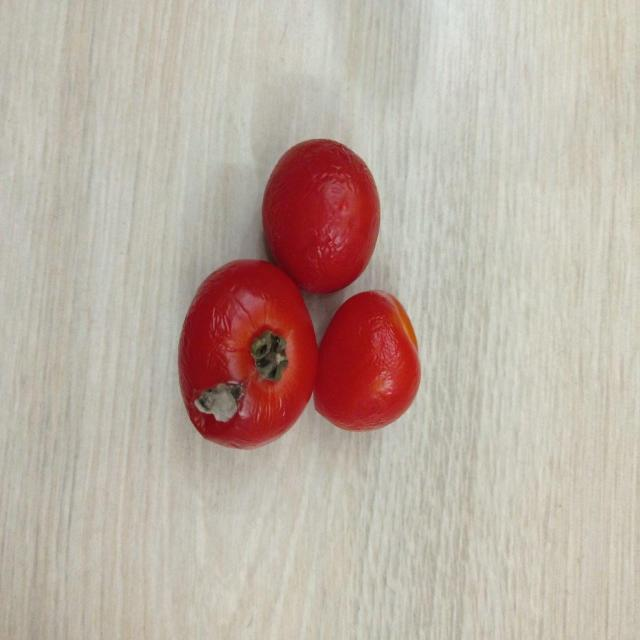Rotten: (180, 256, 315, 449)
overripe: (263, 138, 382, 292)
